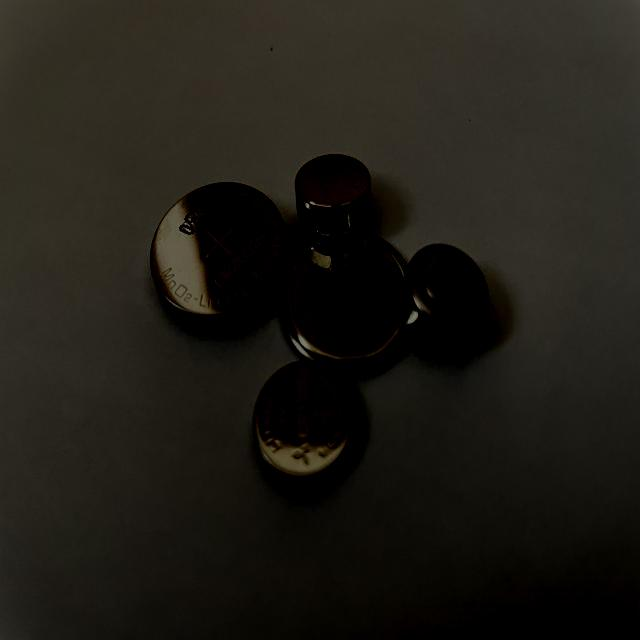COIN: (150, 180, 290, 328), (277, 233, 412, 380), (251, 358, 357, 482), (397, 242, 493, 358), (294, 153, 373, 238)
